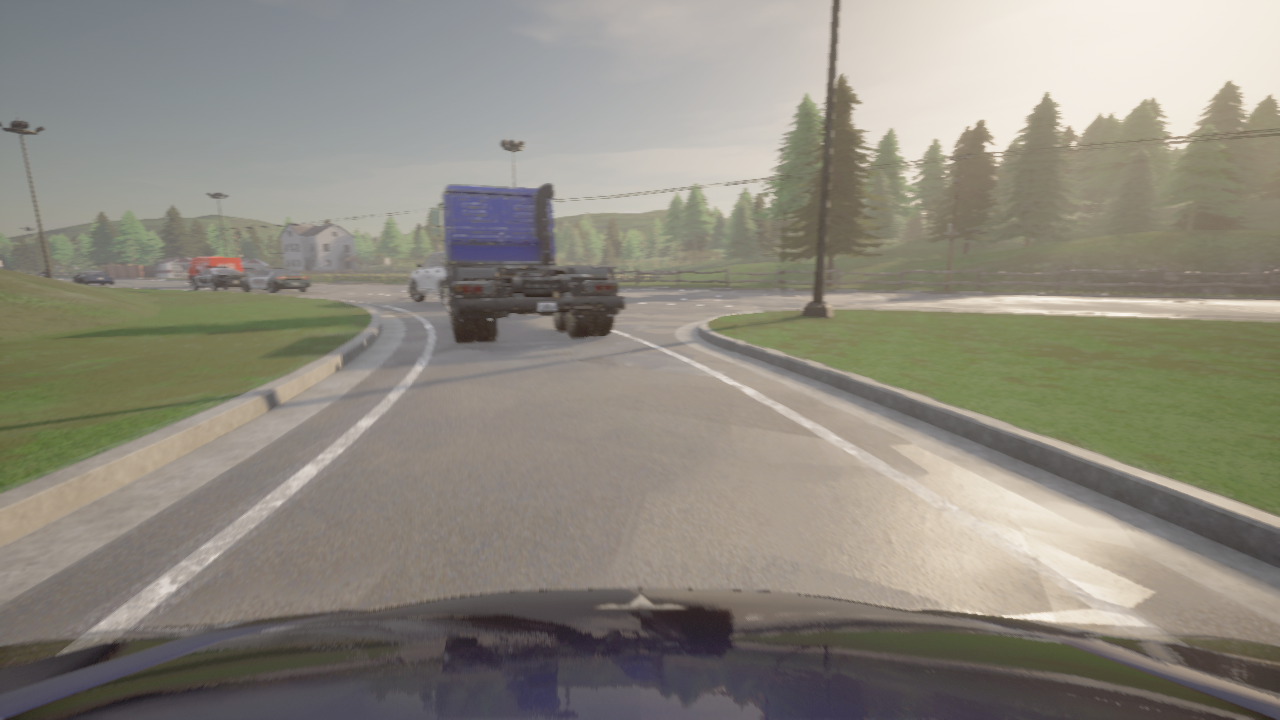cyclist: (0, 588, 1279, 719), (430, 184, 623, 343), (409, 249, 445, 305), (240, 267, 310, 293), (182, 257, 243, 284), (191, 266, 246, 290), (72, 271, 114, 284), (242, 267, 255, 274)
